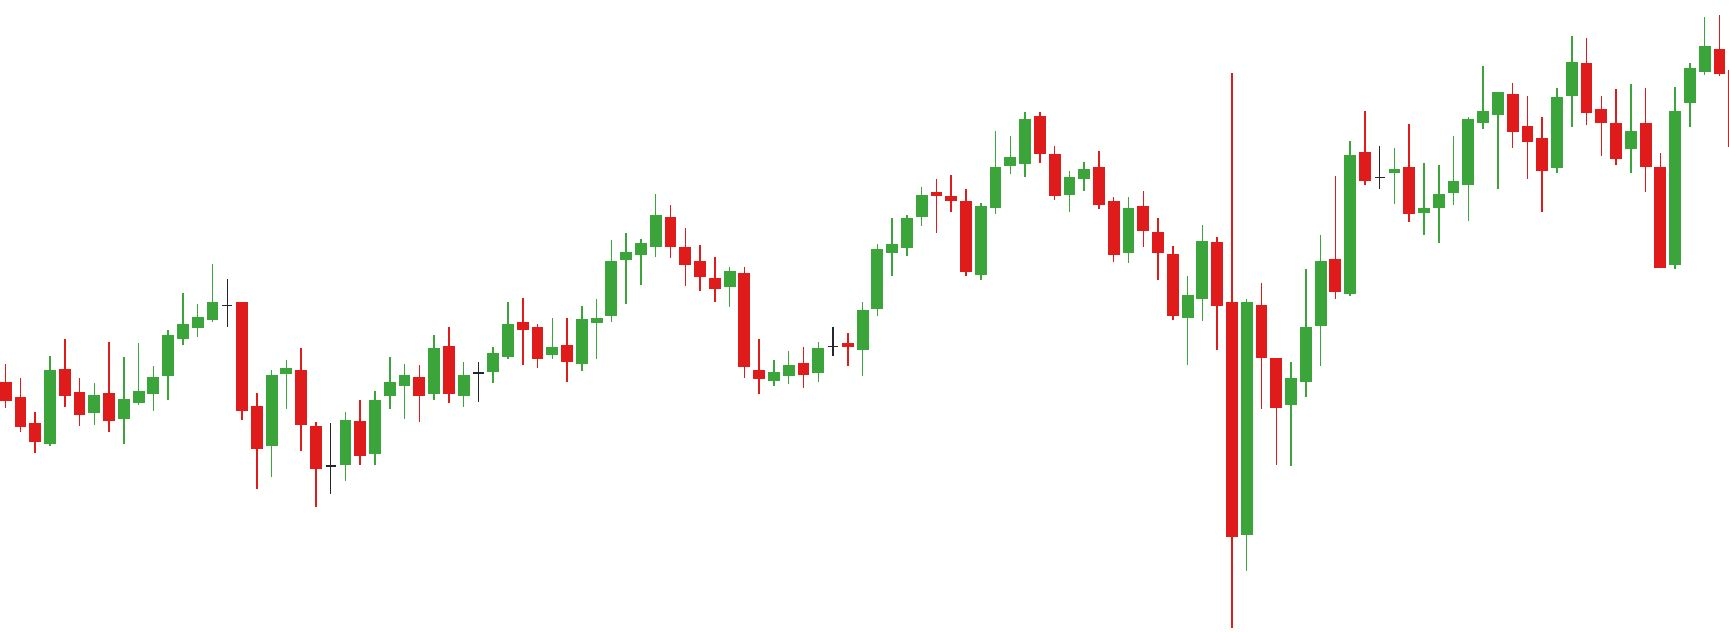buy: (100, 341, 281, 496), (560, 274, 780, 398)
sell: (932, 111, 1066, 228), (1475, 30, 1596, 140)
